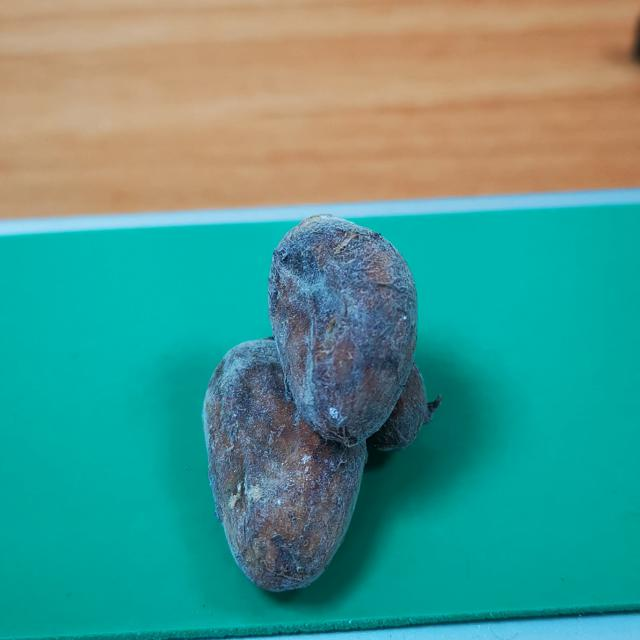Agglomerated_cocoabeans: (145, 210, 522, 628)
